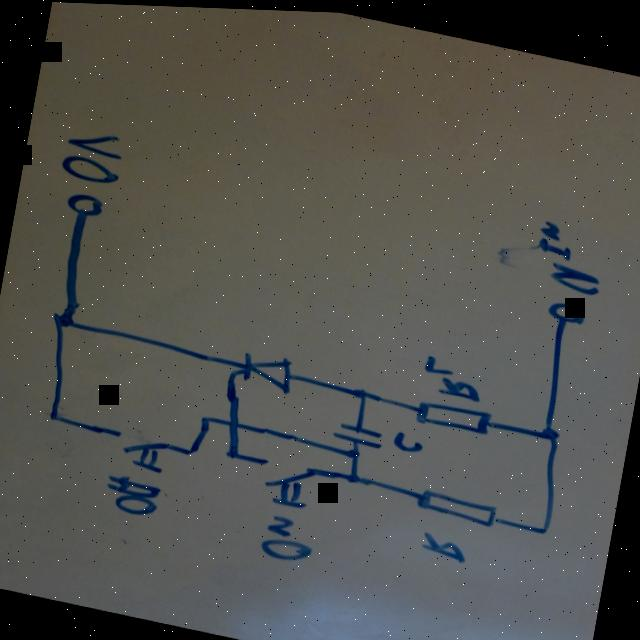capacitor: (332, 417, 386, 448)
crossover: (227, 417, 244, 429)
junction: (51, 309, 75, 330), (540, 422, 562, 437), (352, 384, 371, 397), (346, 468, 363, 482), (226, 446, 243, 459), (346, 445, 362, 457), (48, 410, 62, 422), (200, 412, 214, 423), (538, 522, 552, 533), (187, 445, 200, 456)
resistor: (416, 482, 502, 525), (414, 394, 493, 434)
switch: (255, 454, 318, 508), (112, 427, 169, 473)
terminal: (65, 189, 106, 219), (546, 295, 588, 322)
text: (531, 214, 610, 292), (59, 124, 128, 188), (259, 510, 320, 565), (422, 350, 488, 400), (103, 469, 163, 519), (419, 526, 471, 562), (392, 426, 426, 452)
thyristor: (240, 346, 296, 392)
